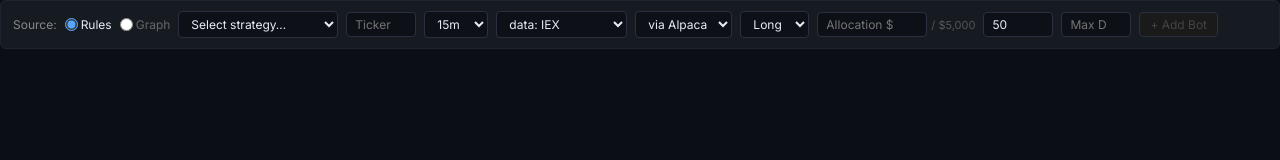
it: AddBotBar graph picker › says so when there are no saved graphs
The image size is (1280, 160).
Click the radio button labelled "Graph".
click(126, 24)  # box [120, 18, 133, 31]
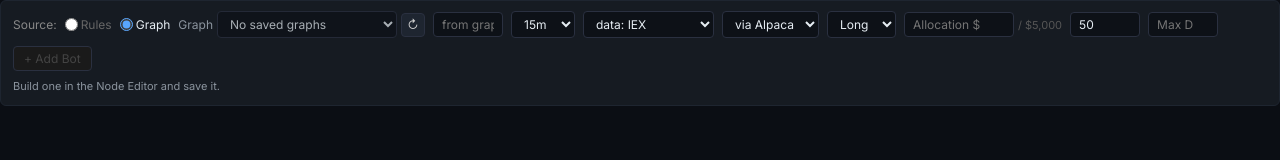
Expected: the dropdown with test id "addbot-graph-select" is disabled, [217, 11, 397, 38]
Expected: the element with test id "addbot-graph-help" reads "Build one in the Node Editor and save it.", [13, 79, 220, 93]
